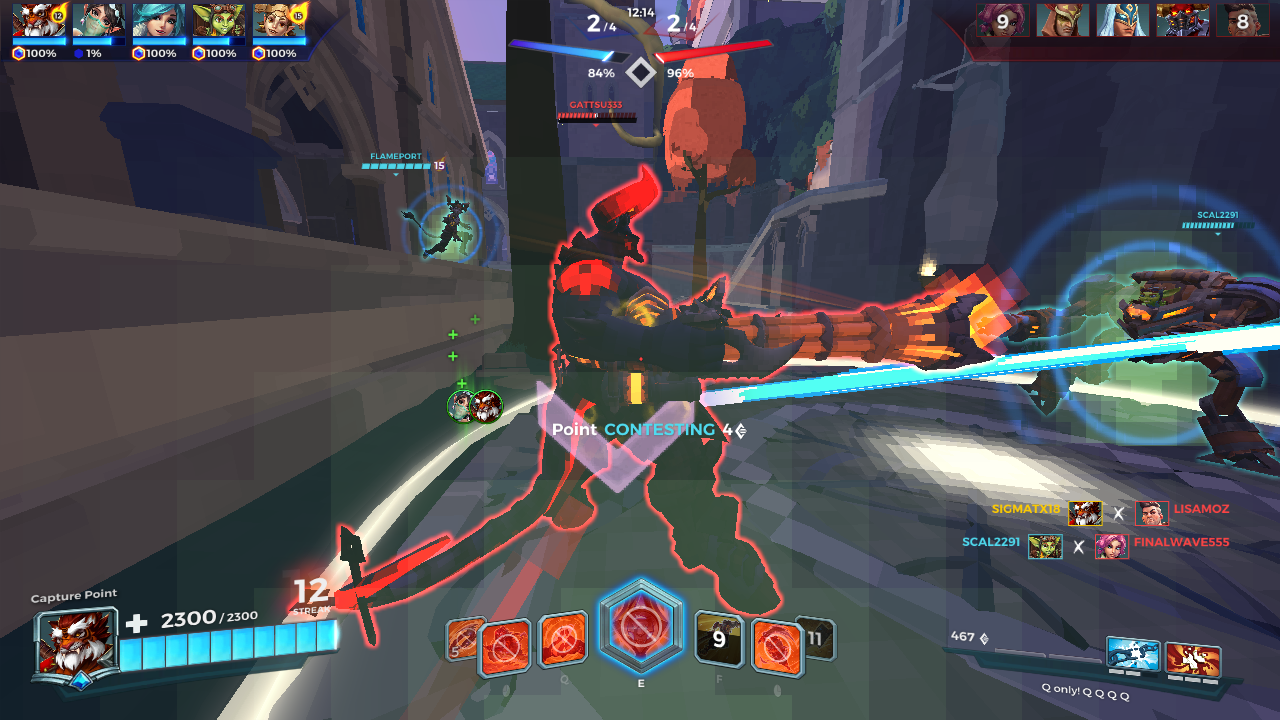model: (329, 159, 992, 605)
